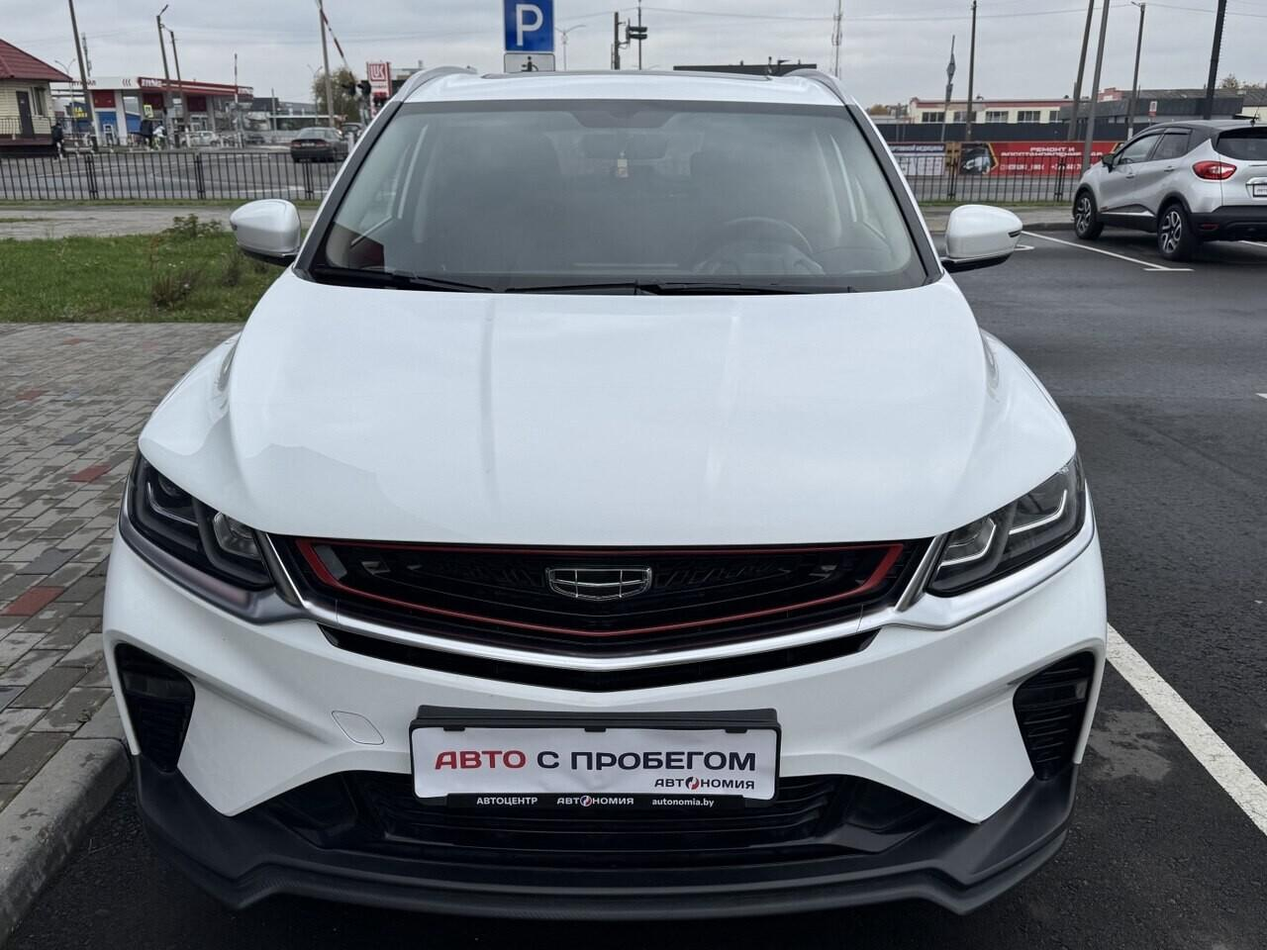Coolray_2019-2023: (92, 61, 1114, 928)
